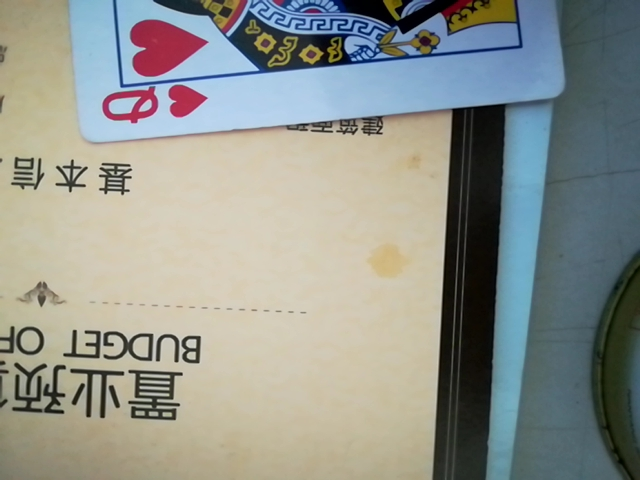hx q: (62, 0, 566, 144)
